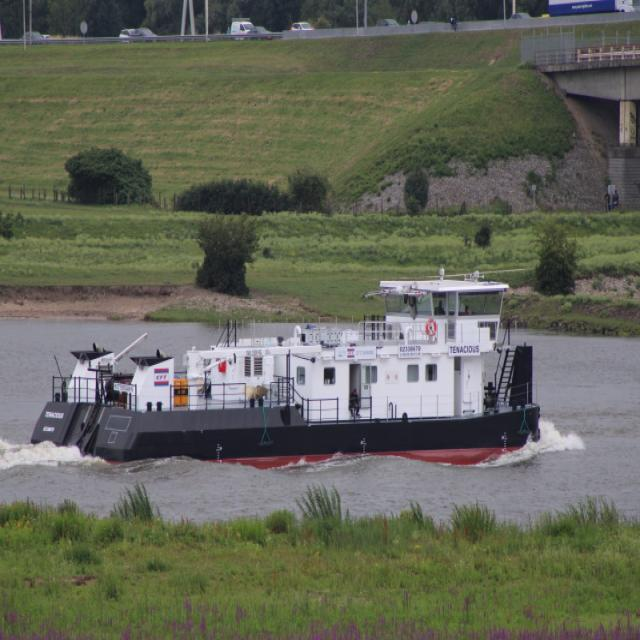tugboat: (28, 266, 548, 478)
